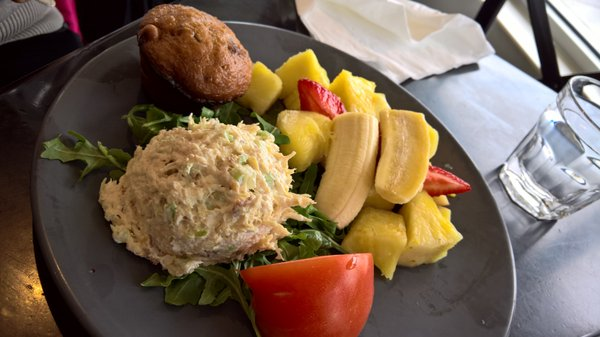pizza: (499, 73, 600, 221)
